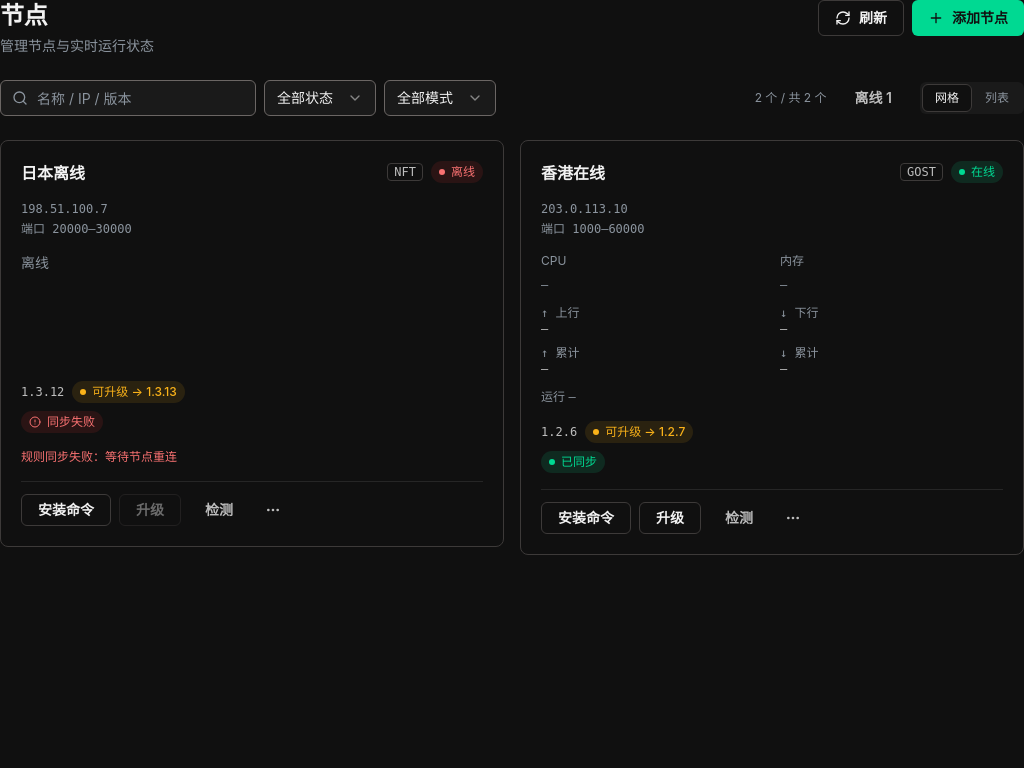
Test case: 节点页面的真实路由和操作 › 升级确认写明重启影响，长请求期间加载且防止重复提交
Expected: the heading "节点" is shown, top-left (0, 1), bottom-right (47, 30)
Expected: the element named "节点 香港在线" is shown, top-left (520, 140), bottom-right (1023, 555)
Click the button "升级" below "已同步": (670, 518) top-left (639, 502), bottom-right (701, 534)
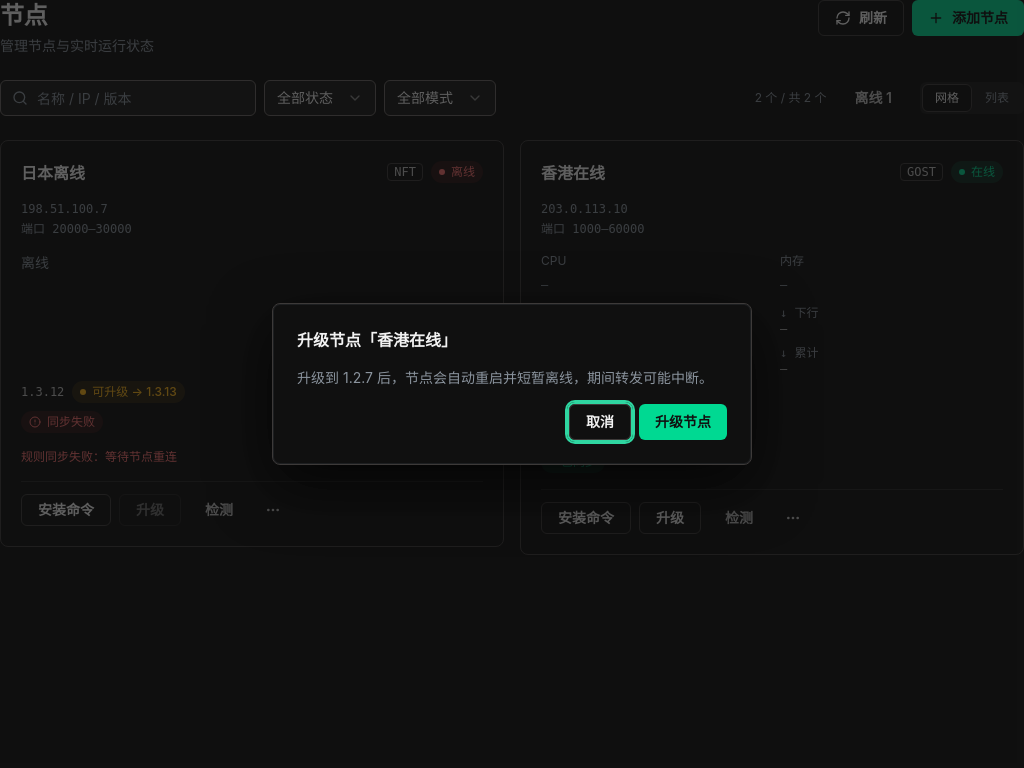
Result: the text "升级到 1.2.7 后，节点会自动重启并短暂离线，期间转发可能中断。" is shown at top-left (297, 368), bottom-right (727, 388)
Click the button "升级节点": (683, 422) top-left (639, 404), bottom-right (727, 440)
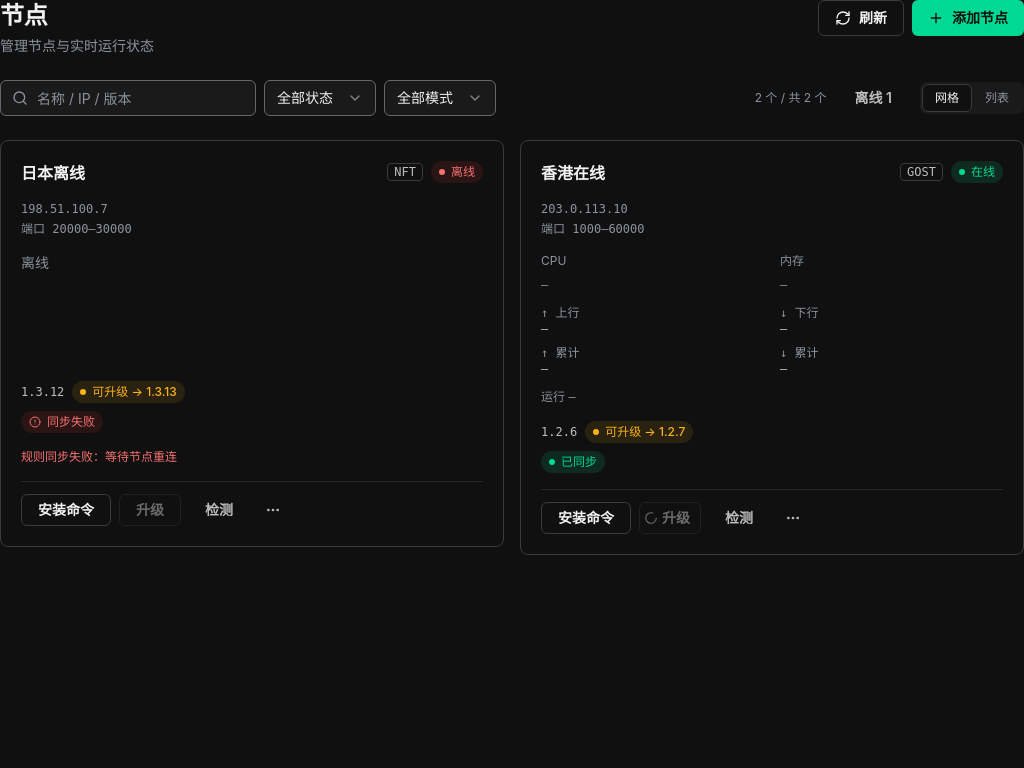
Result: the button "升级" below "已同步" is disabled
Click the button "升级" below "已同步": (670, 518) top-left (639, 502), bottom-right (701, 534)
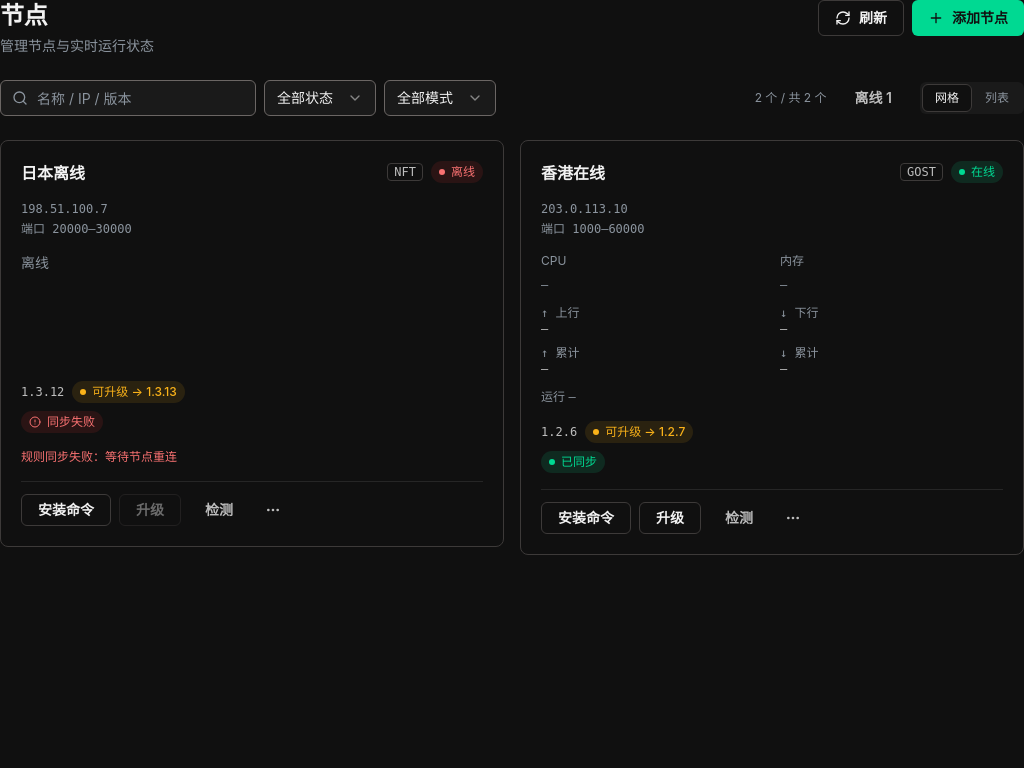
Result: the button "升级" below "已同步" is enabled at top-left (639, 502), bottom-right (701, 534)
